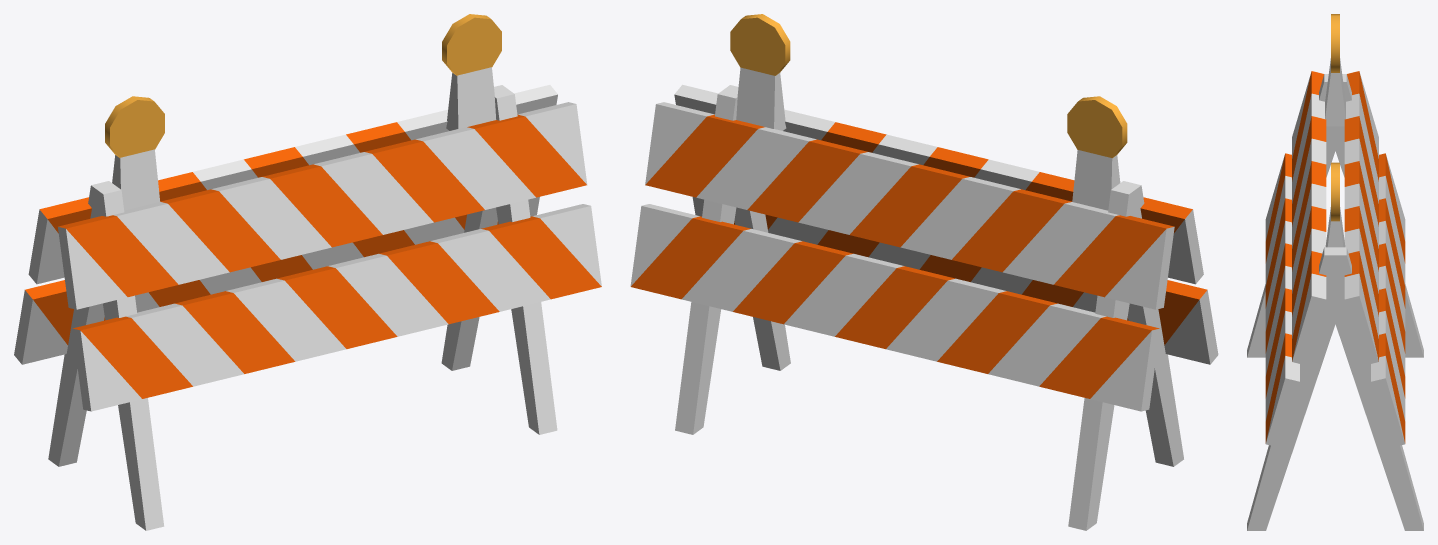
File: road_block.fbx
3 views of the same model, side by side, from view 1: azimuth 30°, elevation 25°; view 2: azimuth 150°, elevation 25°; view 3: azimuth 270°, elevation 25° (orthographic). The views are drawn at different scales.
Parts seen in each view (by area): view 1: road_block; view 2: road_block; view 3: road_block.
Boxes of the visible parts, left/top/right/bottom form: road_block: left=14, top=14, right=601, bottom=530; road_block: left=630, top=14, right=1218, bottom=530; road_block: left=1247, top=14, right=1423, bottom=530.
Size of the model in its own units: 1.82 by 1.32 by 0.6036.
